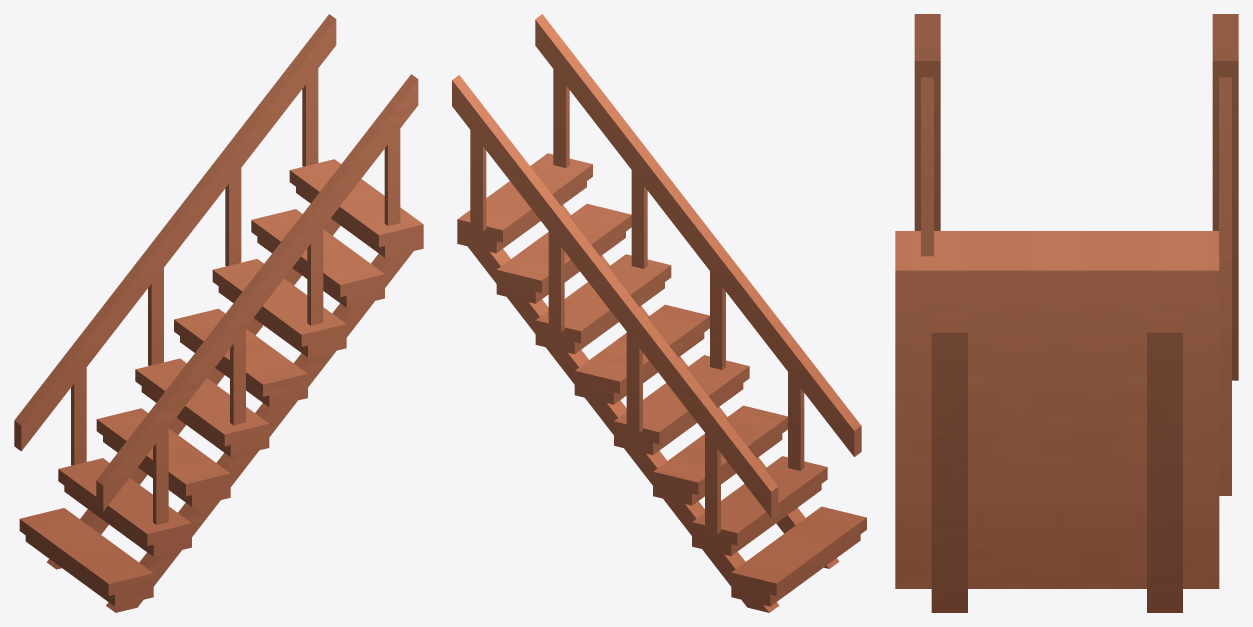
File: stairsWoodHandrail.fbx
The picture shows the model from 3 angles, left to right: view 1: azimuth 30°, elevation 25°; view 2: azimuth 150°, elevation 25°; view 3: azimuth 270°, elevation 25°; orthographic projection. The views are drawn at different scales.
Visible parts, largest first — view 1: stairsWoodHandrail, rail.003; view 2: stairsWoodHandrail, rail.003; view 3: stairsWoodHandrail, rail.003.
Part boxes in pixels (x1,y1,x2,y2): stairsWoodHandrail: (19, 159, 423, 612); rail.003: (14, 14, 418, 524); stairsWoodHandrail: (457, 153, 866, 612); rail.003: (452, 14, 861, 534); stairsWoodHandrail: (895, 231, 1219, 612); rail.003: (914, 14, 1238, 495).
Size of the model in its own units: 1.02 by 0.5297 by 1.44.
